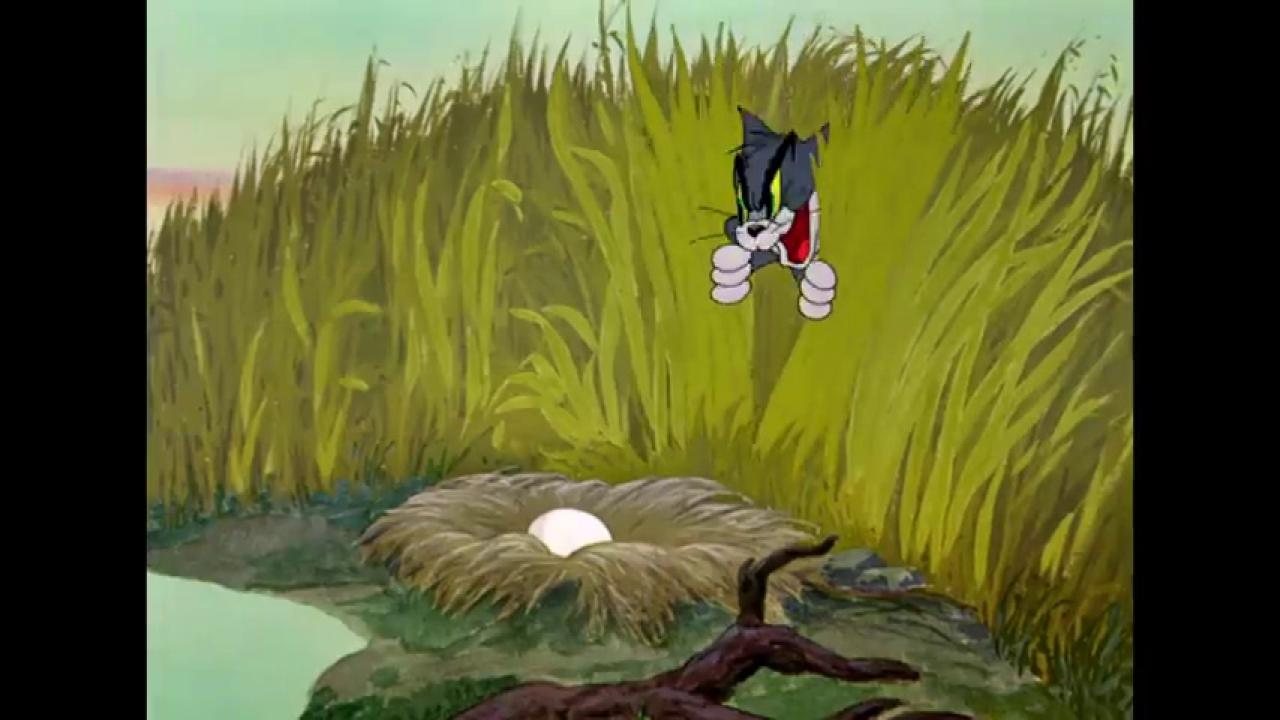Tom: (706, 104, 840, 321)
